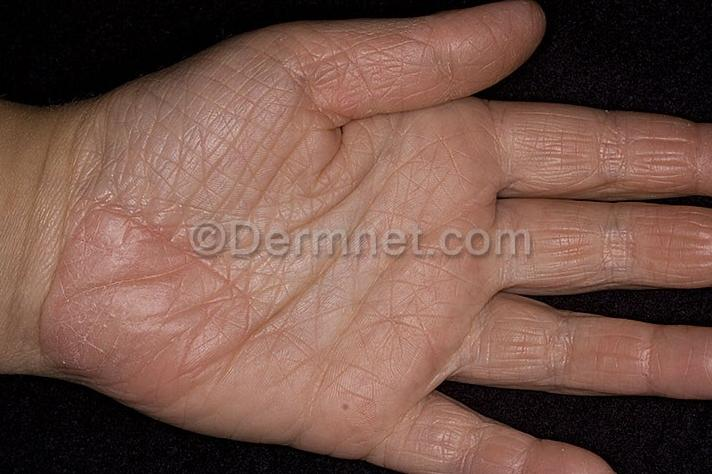liquenificacion 2: (33, 0, 712, 474)
xerosis 1: (43, 222, 145, 387)
